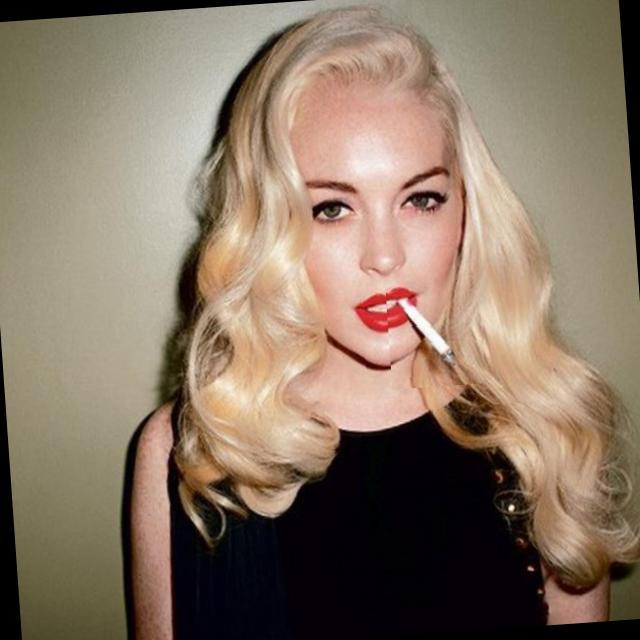cigarette: (384, 278, 490, 390)
